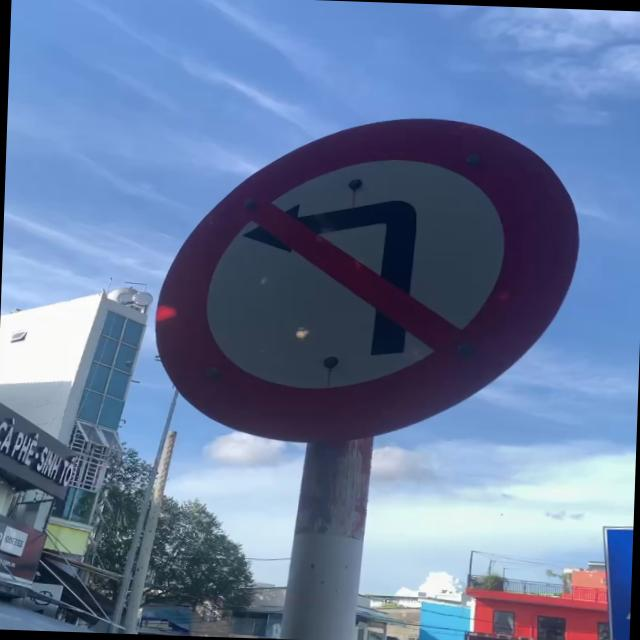Cam_Re_Trai: (144, 104, 584, 458)
